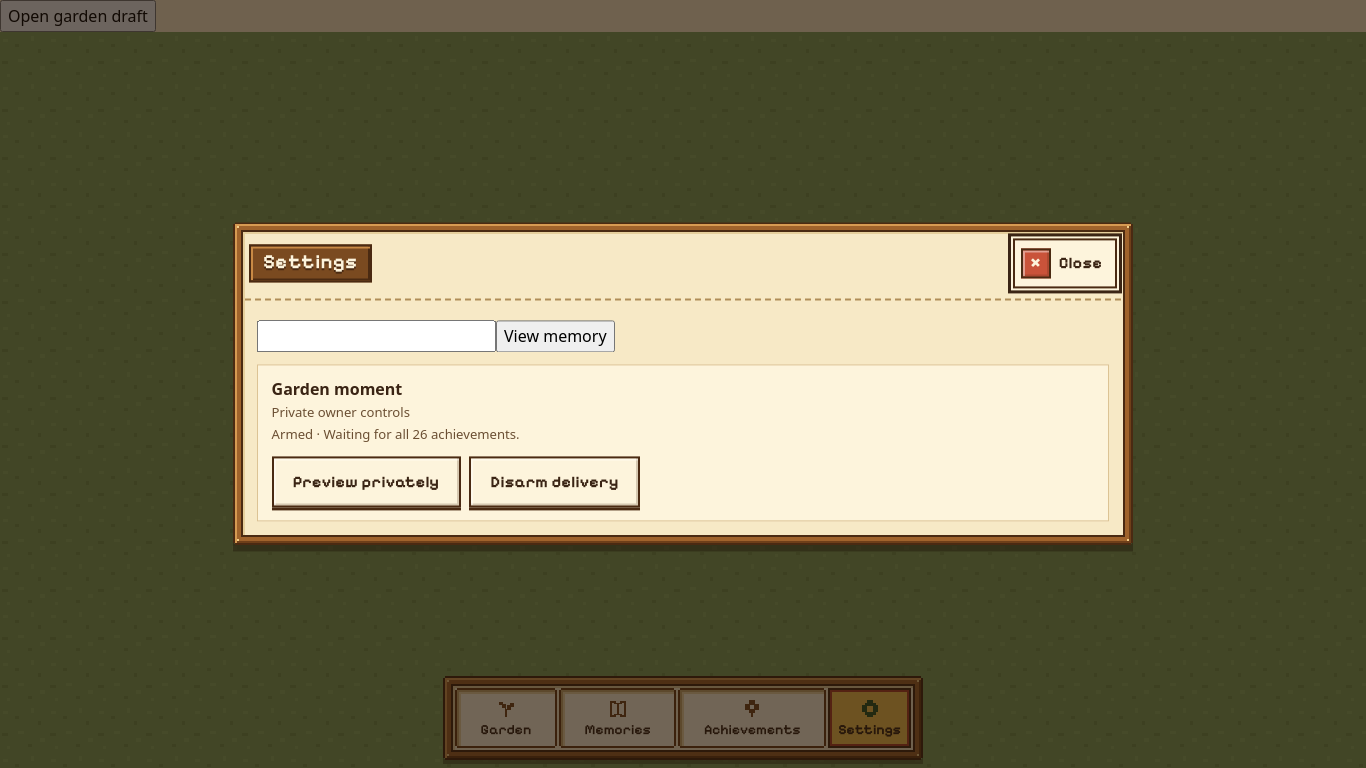
keeps preview failures and their keyboard retry inside Settings
Click the button "Preview privately" at coordinates (366, 482), box [272,457,460,507]
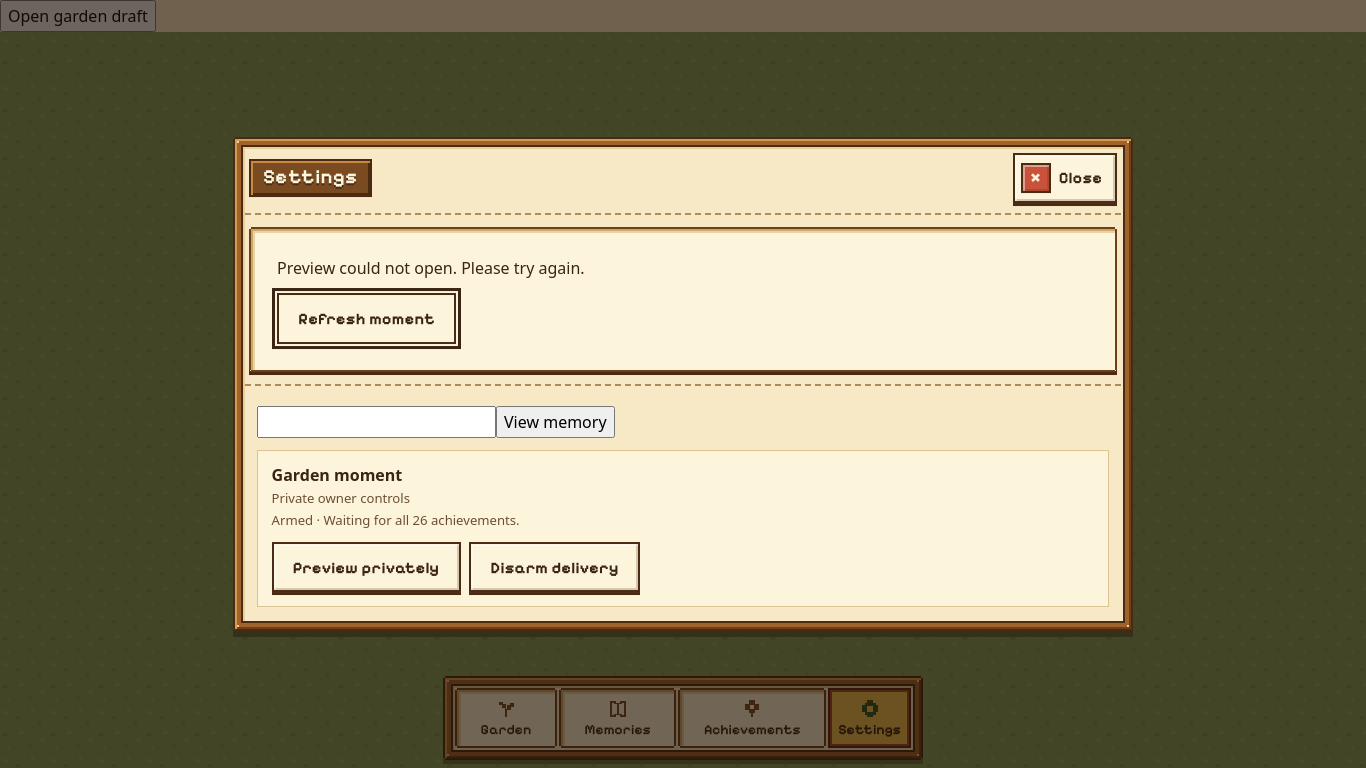
Expected: the message "Preview could not open. Please try again." is shown, [277,257,585,279]
Press Enter
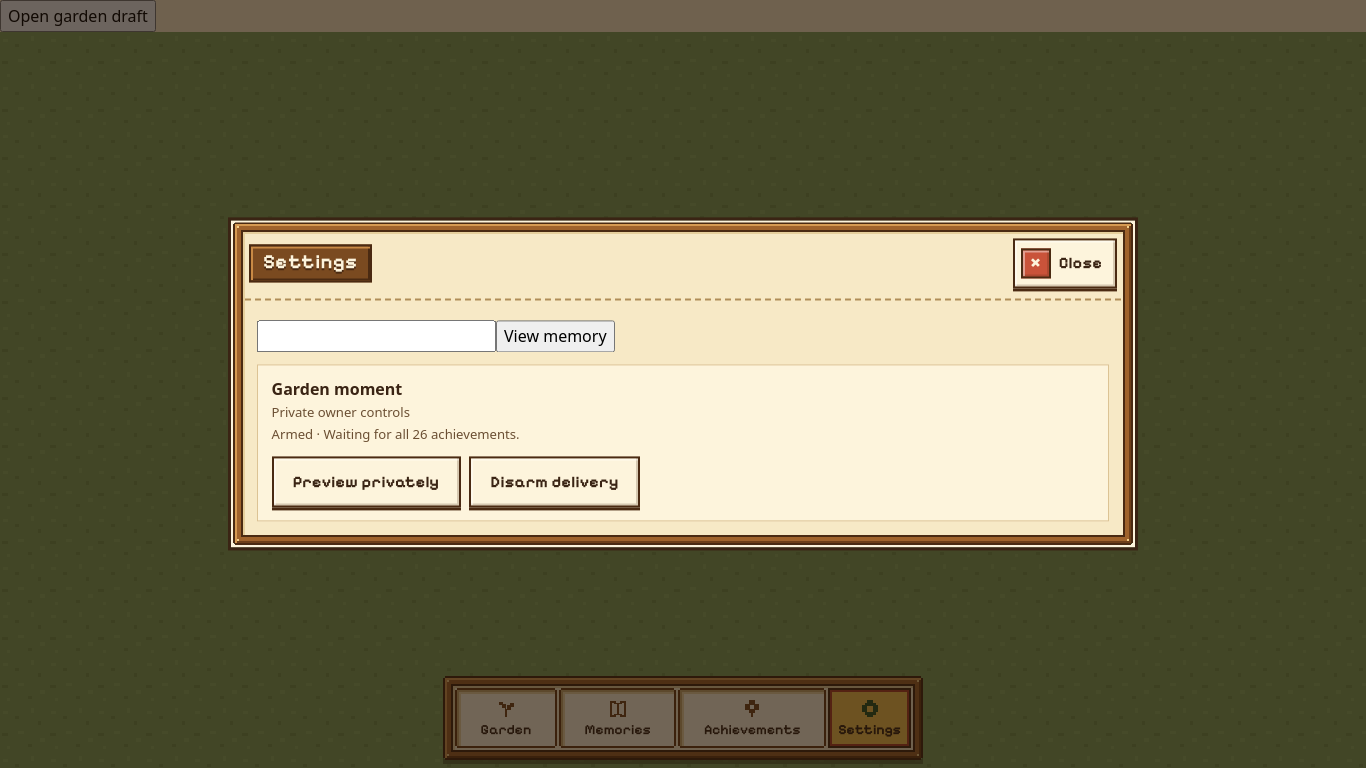
Expected: the message "Preview could not open. Please try again." is gone
